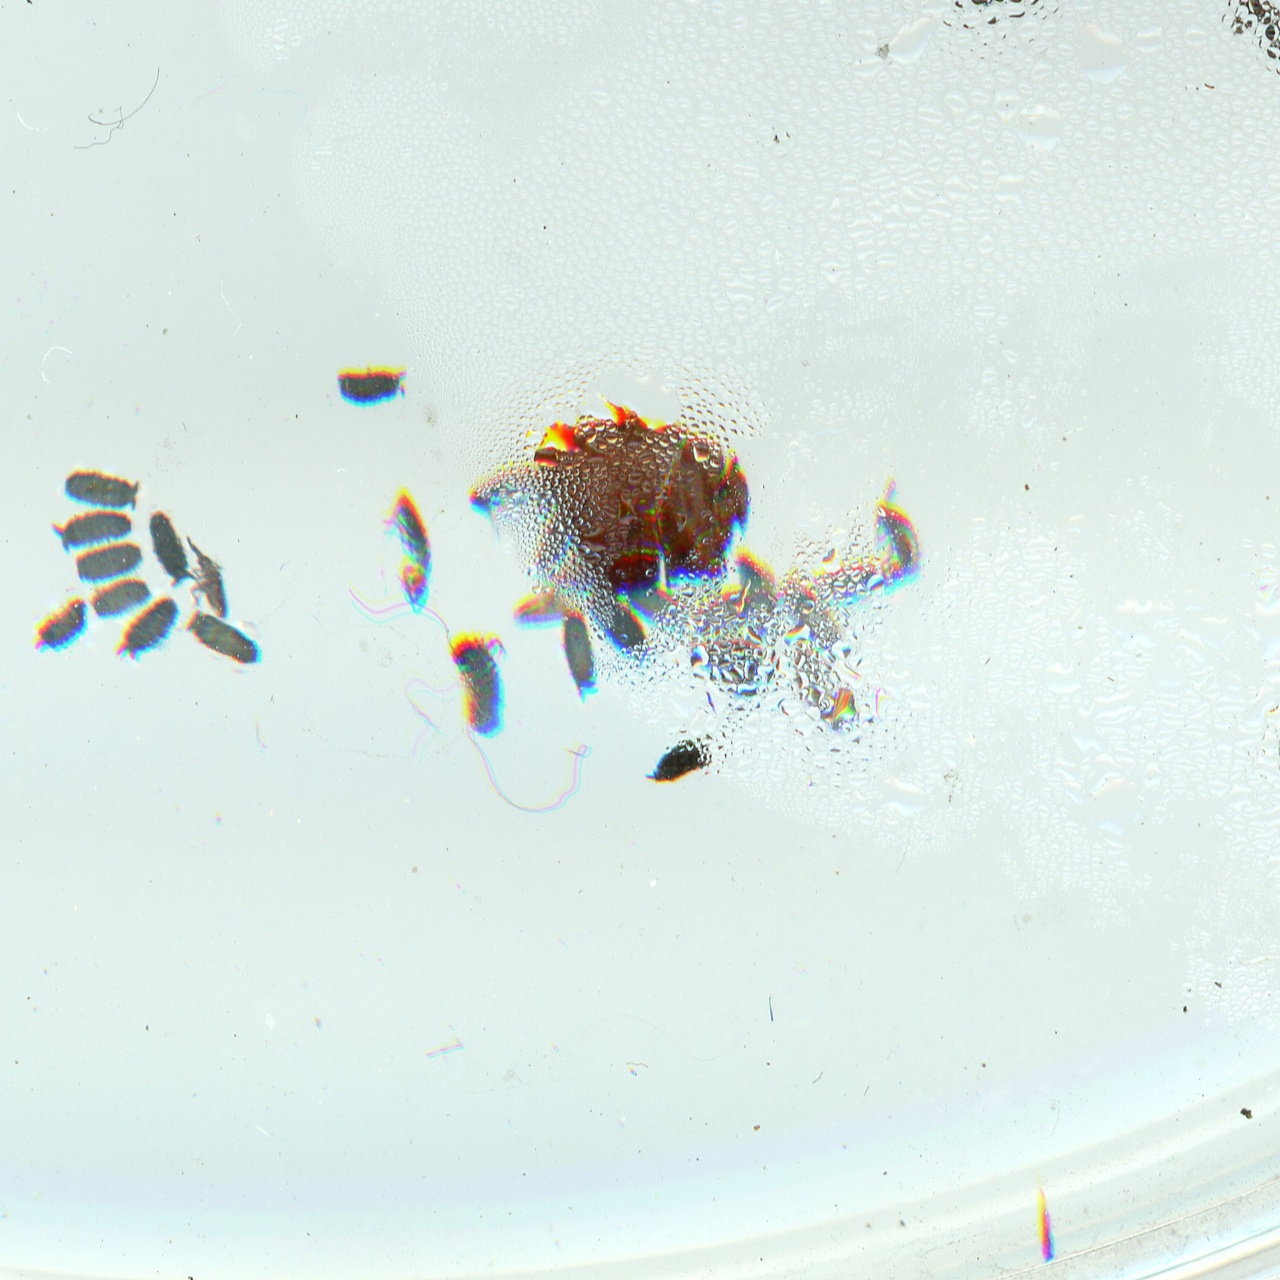arthropod: (578, 583, 668, 676), (770, 568, 855, 662), (376, 484, 435, 618), (105, 586, 192, 676), (19, 584, 101, 670), (179, 602, 271, 676), (550, 608, 611, 710), (136, 502, 202, 593), (452, 638, 509, 743), (619, 566, 692, 639), (49, 503, 136, 557), (83, 566, 159, 627), (68, 533, 150, 590), (872, 499, 925, 585), (183, 533, 233, 622), (332, 359, 413, 410), (61, 463, 143, 513)
